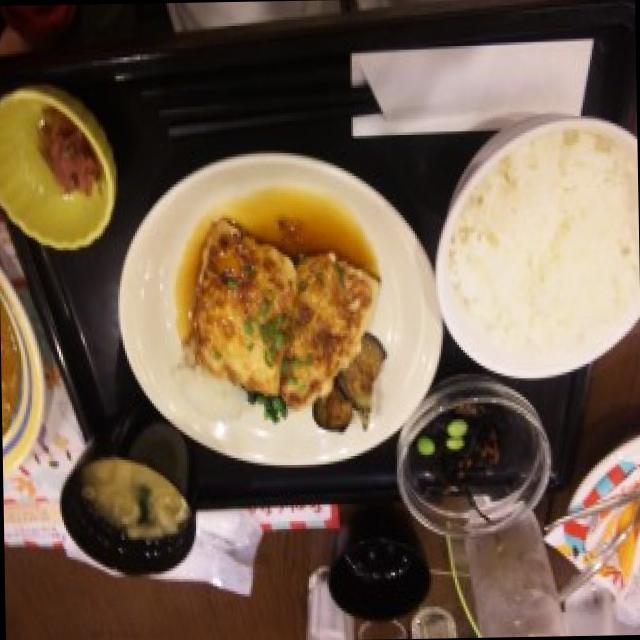Rice: (452, 142, 638, 356)
